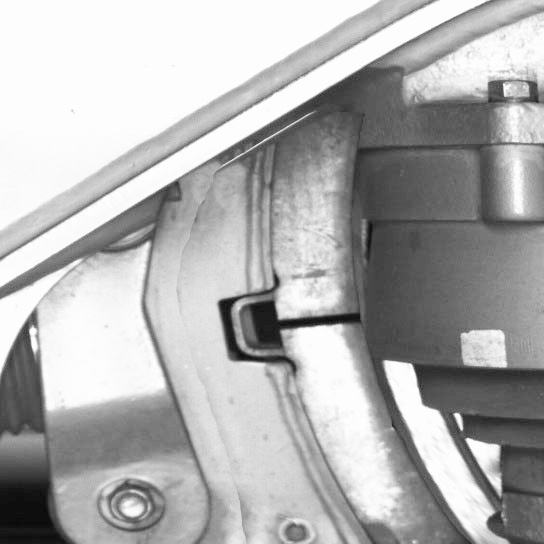ClosedKnifeSwitch: (276, 143, 483, 541)
